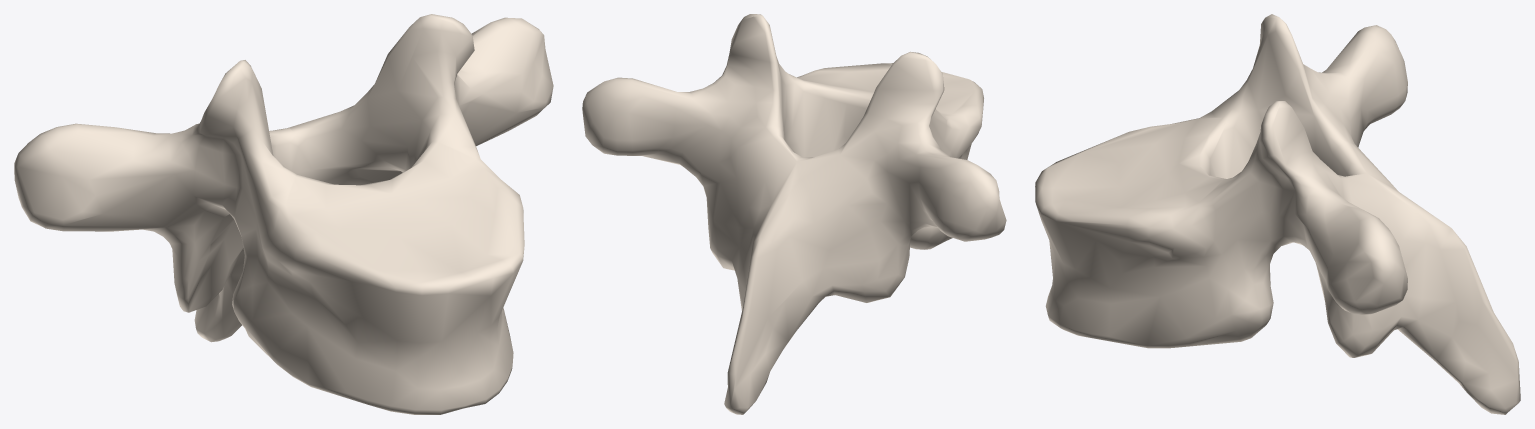
The picture shows the model from 3 angles, left to right: view 1: azimuth 30°, elevation 25°; view 2: azimuth 150°, elevation 25°; view 3: azimuth 270°, elevation 25°; orthographic projection. The views are drawn at different scales.
Visible parts, largest first — view 1: Thoracic vertebrae (T5); view 2: Thoracic vertebrae (T5); view 3: Thoracic vertebrae (T5).
Boxes of the visible parts, x1,y1,x2,y2 form: Thoracic vertebrae (T5): (14,14,553,414); Thoracic vertebrae (T5): (582,14,1006,414); Thoracic vertebrae (T5): (1035,14,1520,414).
Bounding box in the file's own units: 0.0752 × 0.0535 × 0.0666.
